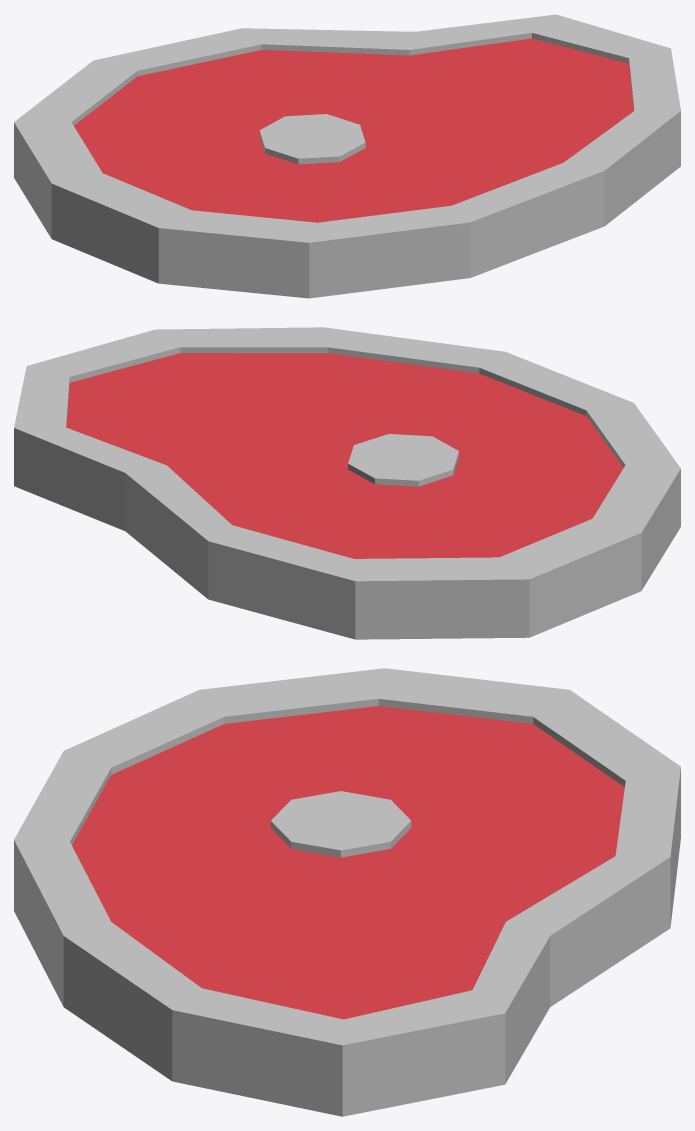
Rendered from FBX_Meat.fbx.
3 views of the same model, one above another, from view 1: azimuth 30°, elevation 25°; view 2: azimuth 150°, elevation 25°; view 3: azimuth 270°, elevation 25° (orthographic). The views are drawn at different scales.
Parts seen in each view (by area): view 1: skin, meat, bone; view 2: skin, meat, bone; view 3: meat, skin, bone.
Part boxes in pixels (x1,y1,x2,y2): skin: (14,14,680,298); meat: (74,38,633,222); bone: (259,114,365,164); skin: (14,327,680,639); meat: (66,353,623,558); bone: (348,434,458,486); meat: (72,706,624,1019); skin: (14,668,680,1116); bone: (270,791,411,857).
Size of the model in its own units: 0.3283 by 0.0388 by 0.4393.
